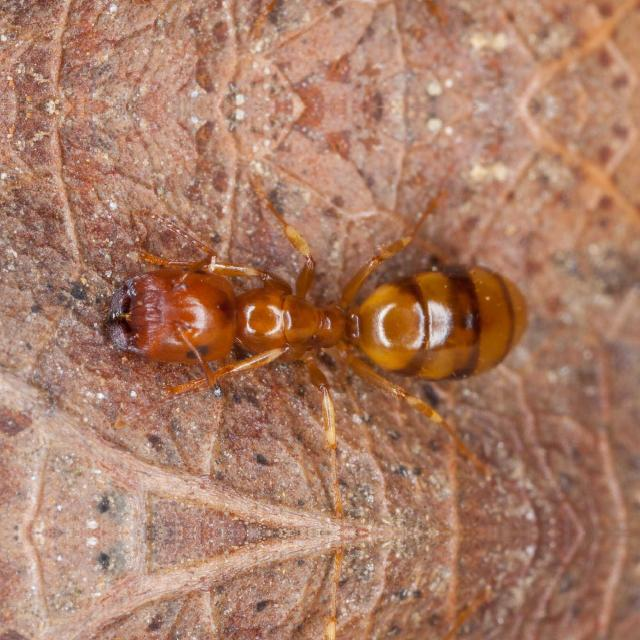Colobopsis: (90, 224, 538, 410)
